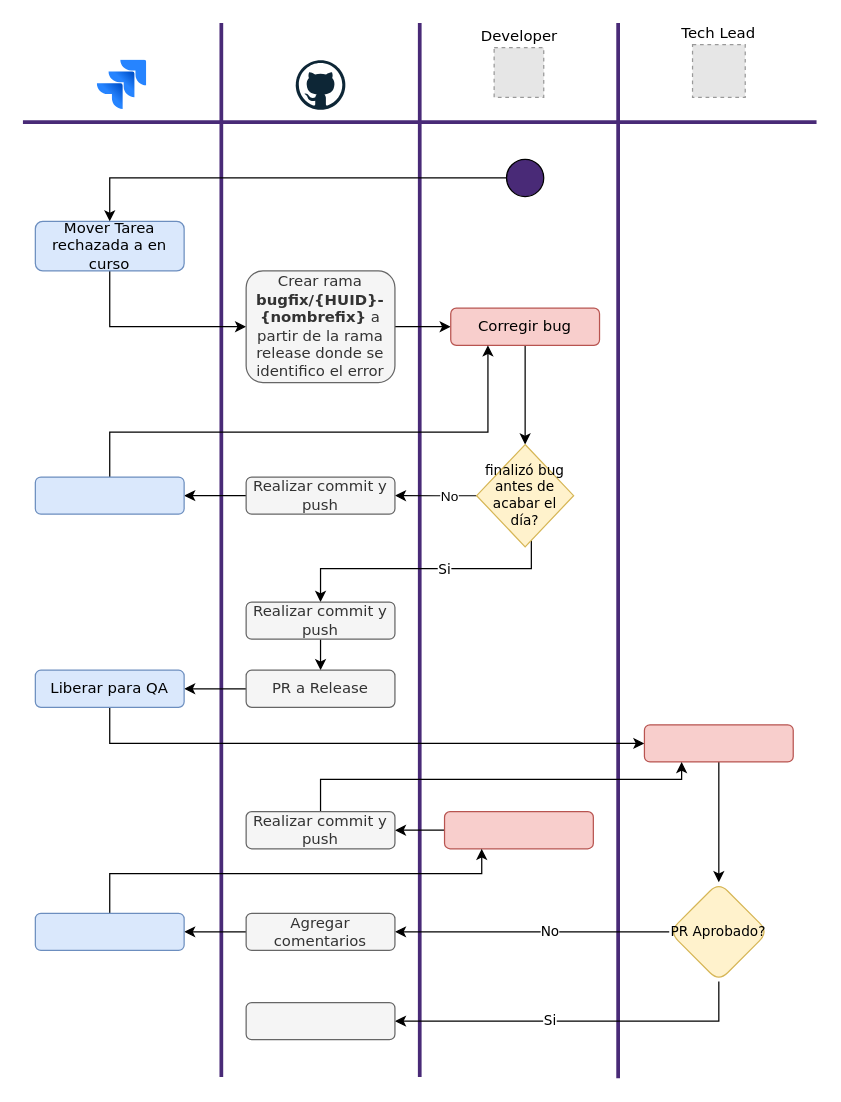
The diagram is 841 pixels wide and 1102 high, and some of its shapes have lost their labels. Grey dashed boxes stand in for pictures. The shapes that lost their labels are listed below. From the top down, each one's centre as x and y in pixels, then its label:
the point at 121,84: Jira
the point at 319,84: Github
the point at 109,495: Registrar tiempos
the point at 718,743: Review PR
the point at 518,829: Realizar Fix
the point at 109,931: Por Hacer
the point at 320,1020: Merge a Release
